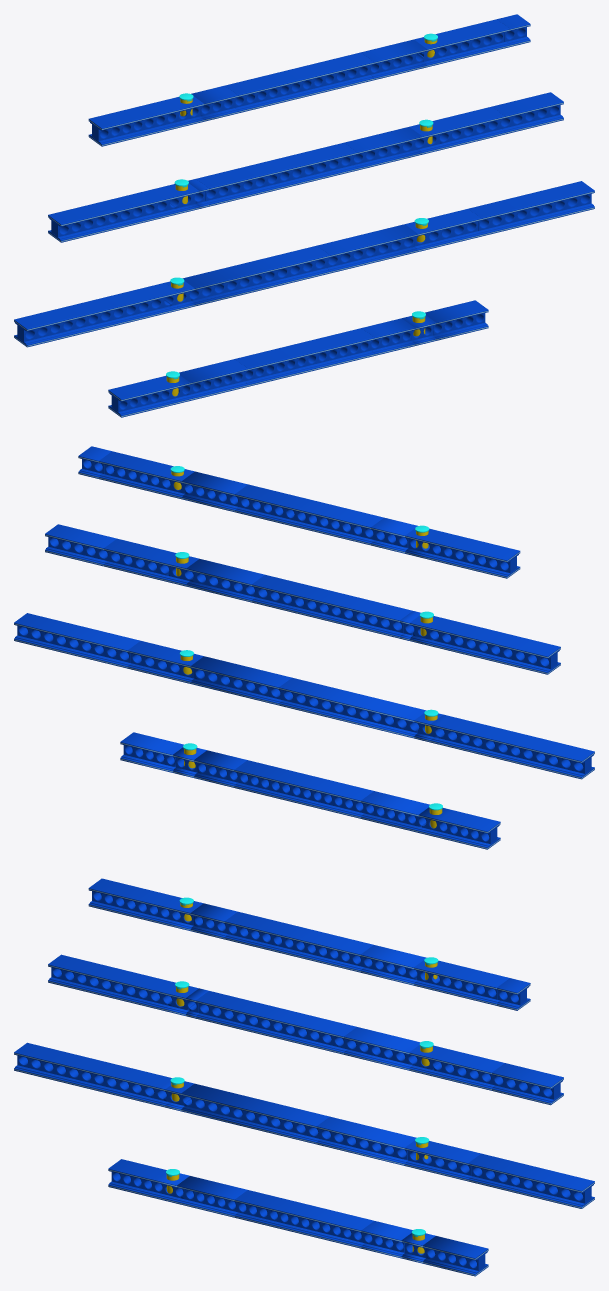
File: Floor4_cut 1.fbx
The picture shows the model from 3 angles, top to bottom: view 1: azimuth 30°, elevation 25°; view 2: azimuth 150°, elevation 25°; view 3: azimuth 330°, elevation 25°; orthographic projection.
Parts seen in each view (by area): view 1: Cube_001.002, Cube_002.002, Cube_006.003, Cube_001.003, Cube_003.003, Cube_002.003, Cube_003.002, Cube_006.002, Cube_002.001, Cube_001, Cube_002, Cube_003 (+4 smaller); view 2: Cube_001.002, Cube_002.002, Cube_006.003, Cube_001.003, Cube_003.003, Cube_002.003, Cube_003.002, Cube_006.002, Cube_002.001, Cube_002, Cube_001, Cube_006 (+3 smaller); view 3: Cube_001.002, Cube_002.002, Cube_006.003, Cube_002.003, Cube_003.003, Cube_001.003, Cube_003.002, Cube_006.002, Cube_001.001, Cube_003.001, Cube_006.001, Cube_001 (+4 smaller).
Part boxes in pixels (x1,y1,x2,y2): Cube_001.002: [14, 181, 594, 347]; Cube_002.002: [48, 92, 563, 242]; Cube_006.003: [179, 318, 414, 400]; Cube_001.003: [182, 224, 417, 306]; Cube_003.003: [191, 39, 426, 121]; Cube_002.003: [188, 127, 422, 208]; Cube_003.002: [88, 14, 530, 146]; Cube_006.002: [108, 300, 488, 417]; Cube_002.001: [409, 124, 443, 154]; Cube_001: [160, 281, 194, 311]; Cube_002: [165, 183, 199, 214]; Cube_003: [170, 96, 203, 126]; Cube_001.002: [14, 613, 594, 779]; Cube_002.002: [45, 524, 560, 674]; Cube_006.003: [194, 750, 429, 832]; Cube_001.003: [191, 656, 426, 738]; Cube_003.003: [182, 471, 417, 553]; Cube_002.003: [186, 559, 420, 640]; Cube_003.002: [78, 446, 520, 578]; Cube_006.002: [120, 732, 500, 849]; Cube_002.001: [165, 556, 199, 586]; Cube_002: [409, 616, 443, 646]; Cube_001: [414, 713, 448, 743]; Cube_006: [418, 807, 452, 837]; Cube_001.002: [14, 1042, 594, 1208]; Cube_002.002: [48, 954, 563, 1105]; Cube_006.003: [177, 1176, 412, 1258]; Cube_002.003: [186, 988, 420, 1070]; Cube_003.003: [190, 903, 426, 985]; Cube_001.003: [181, 1083, 416, 1165]; Cube_003.002: [88, 878, 530, 1010]; Cube_006.002: [108, 1159, 488, 1276]; Cube_001.001: [404, 1140, 438, 1170]; Cube_003.001: [414, 960, 447, 990]; Cube_006.001: [401, 1233, 435, 1263]; Cube_001: [160, 1080, 194, 1111].
Bounding box in the file's own units: 5980 × 3009 × 242.
